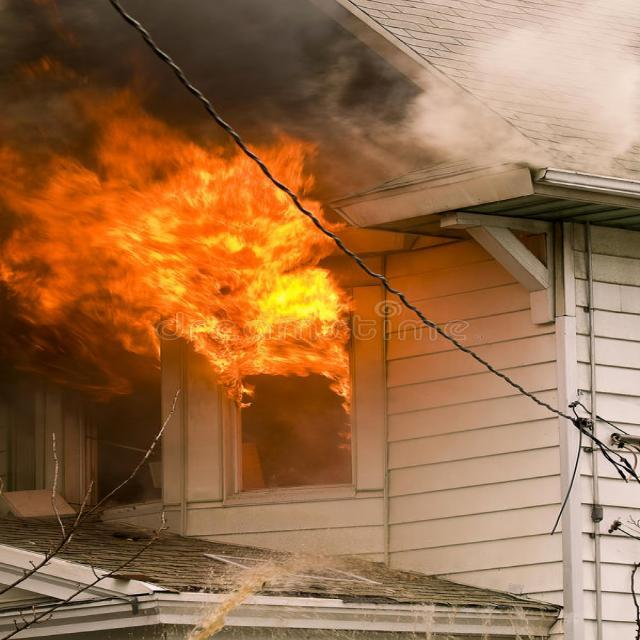Fire: (7, 129, 320, 401)
Smoke: (0, 3, 387, 118), (394, 2, 636, 171)
